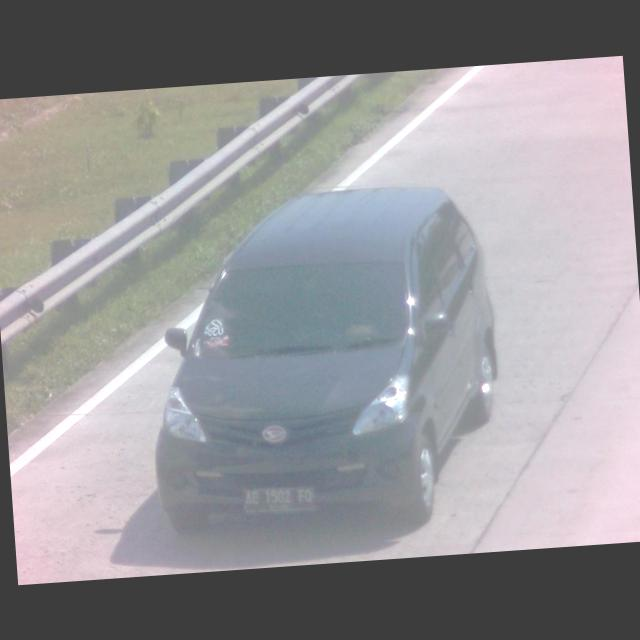plate: (241, 485, 315, 516)
